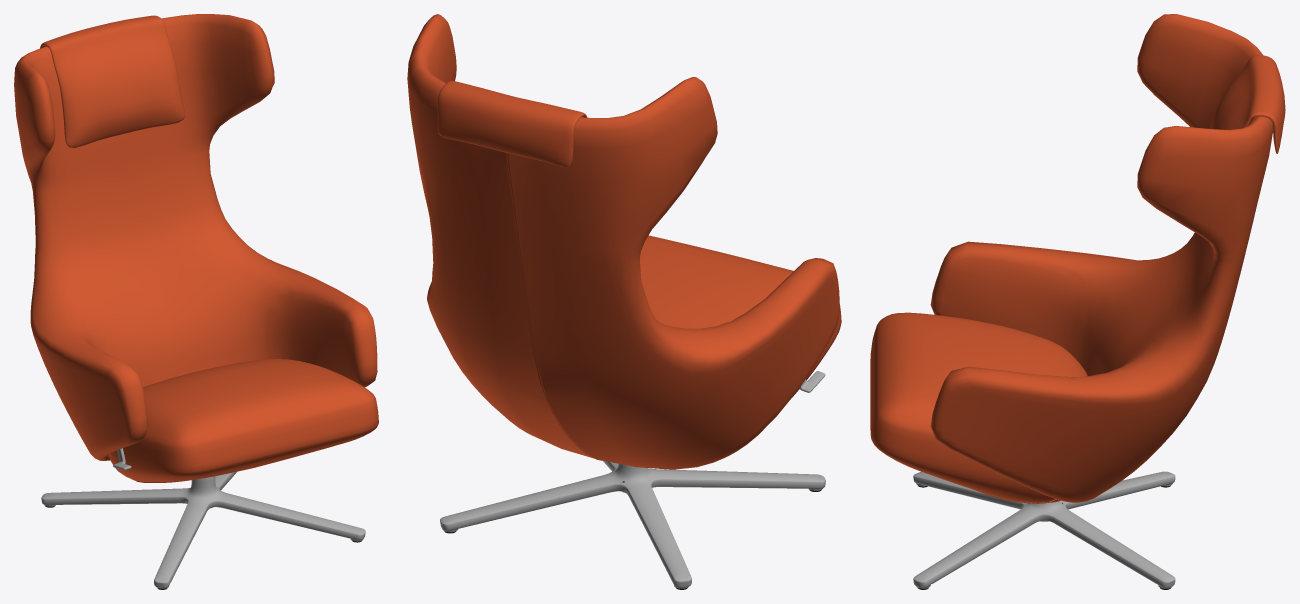
Rendered from chair2.glb.
3 renders of one model, left to right at view 1: azimuth 30°, elevation 25°; view 2: azimuth 150°, elevation 25°; view 3: azimuth 270°, elevation 25°, orthographic. The views are drawn at different scales.
Parts seen in each view (by area): view 1: Grand Repos - Vitra_n3d; view 2: Grand Repos - Vitra_n3d; view 3: Grand Repos - Vitra_n3d.
Part boxes in pixels (<box>): Grand Repos - Vitra_n3d: <box>14,14,378,589</box>; Grand Repos - Vitra_n3d: <box>407,14,841,589</box>; Grand Repos - Vitra_n3d: <box>870,14,1285,589</box>.
Bounding box in the file's own units: 0.9593 × 1.46 × 1.18.
